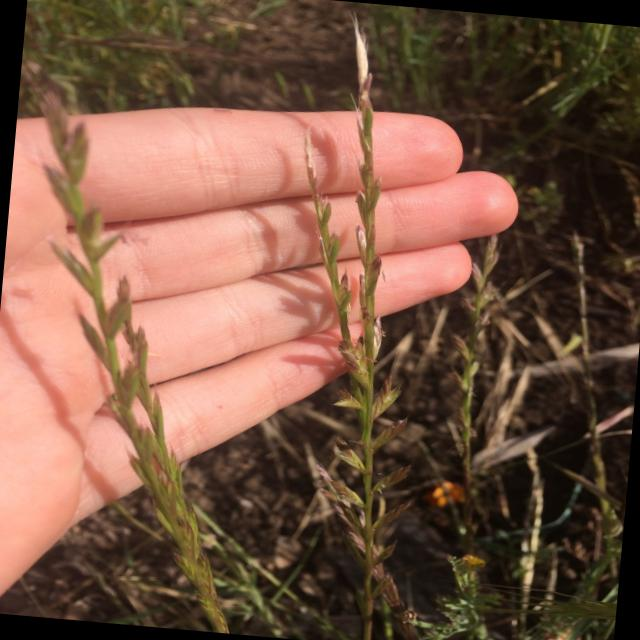Lolium: (0, 0, 288, 632), (255, 8, 479, 640)
